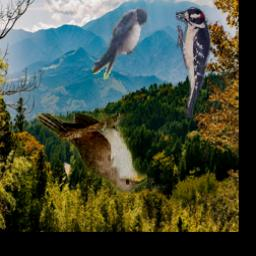Cuckoo: (38, 114, 147, 194)
Swallow: (92, 9, 147, 80)
Woodpecker: (176, 5, 212, 117)
